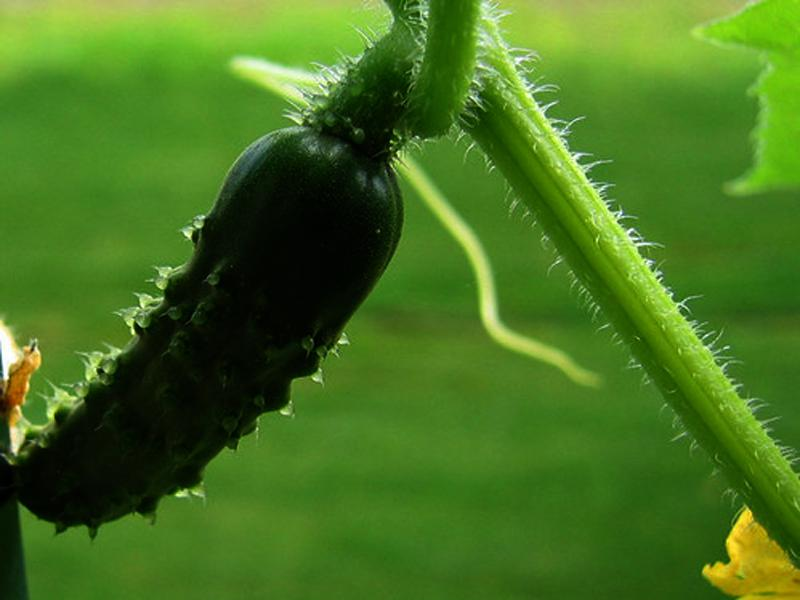Cucumber: (13, 130, 409, 531)
